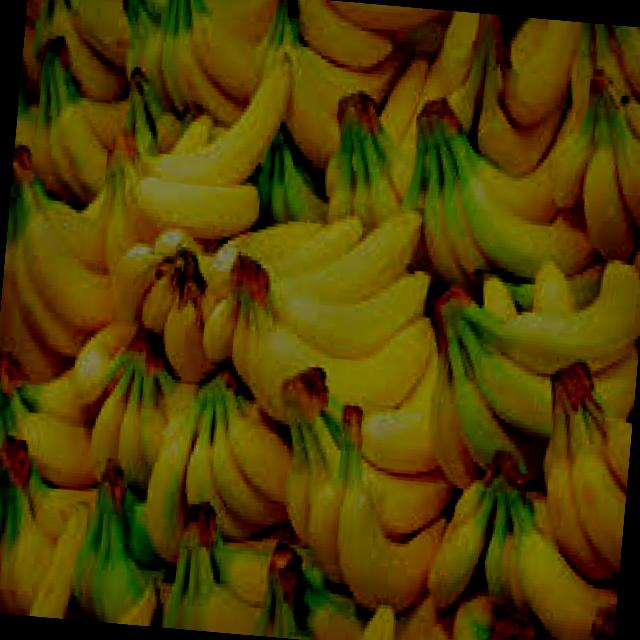Banana: (197, 191, 446, 430), (417, 253, 640, 498), (260, 360, 458, 620), (394, 98, 606, 302), (146, 354, 292, 552), (0, 145, 127, 356), (532, 356, 638, 580), (70, 313, 182, 490), (72, 459, 170, 627), (0, 432, 85, 619), (165, 503, 278, 632)
